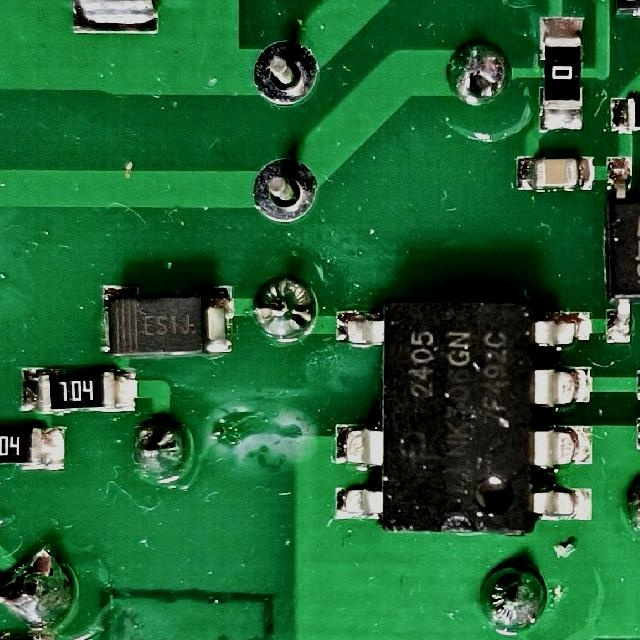chip-capacitor: (513, 153, 598, 195)
chip-resistor: (17, 366, 140, 417), (536, 14, 588, 134), (0, 423, 68, 472)
diode: (97, 282, 236, 362)
ic: (328, 293, 596, 539)
